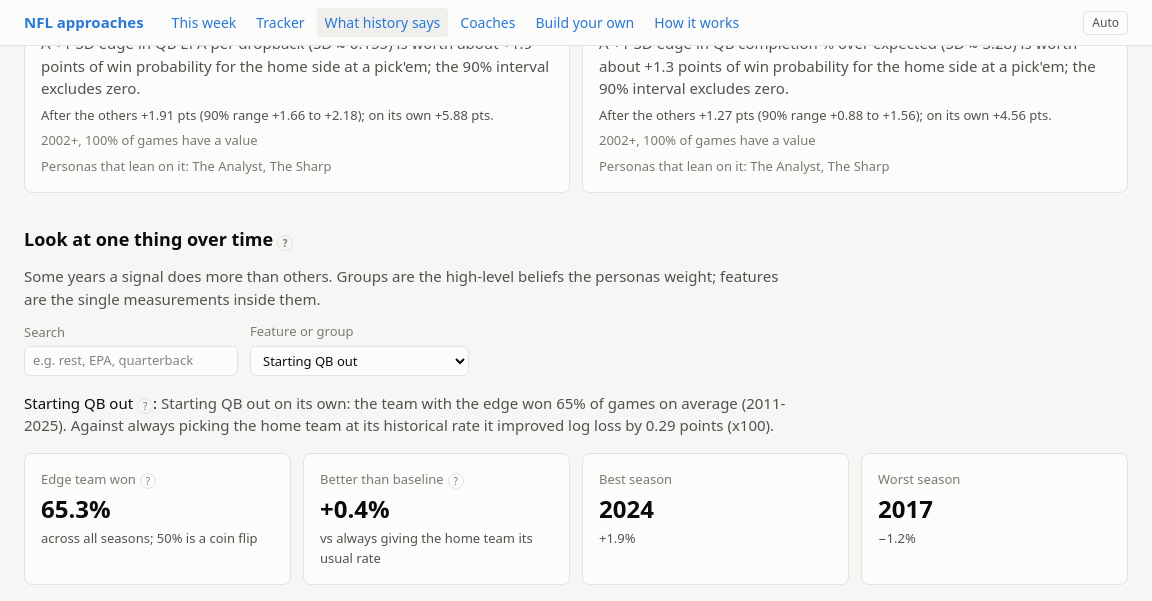
Hypotheses page › changes the item from the picker
(page scrolled)
Select "Injury impact" in the dropdown labelled "Feature or group" at [360, 360], box [250, 346, 469, 376]
(page scrolled)
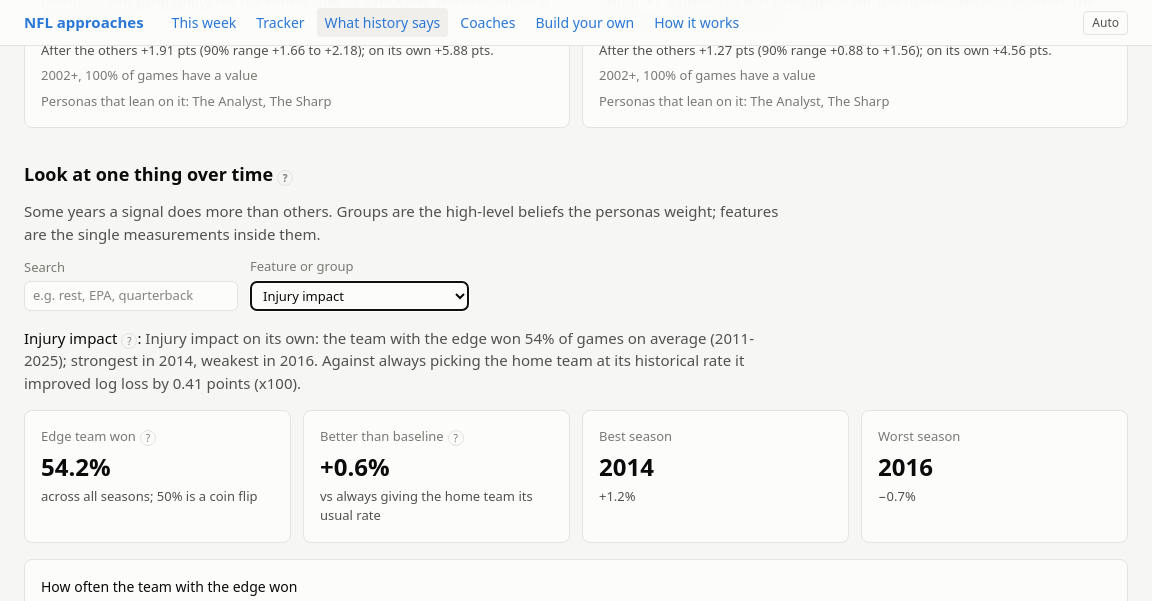
Expected: the text "Injury impact on its own: the team with the edge won 54% of games on average (2011-2025); strongest in 2014, weakest in " is shown, [24, 328, 754, 392]
